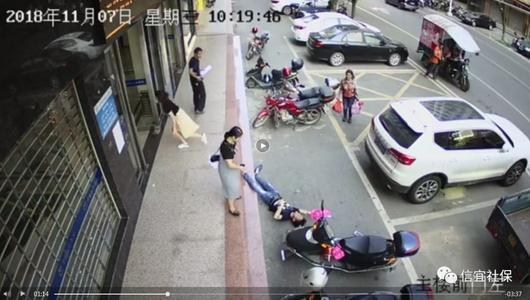Fall-Detected: (236, 157, 314, 227)
